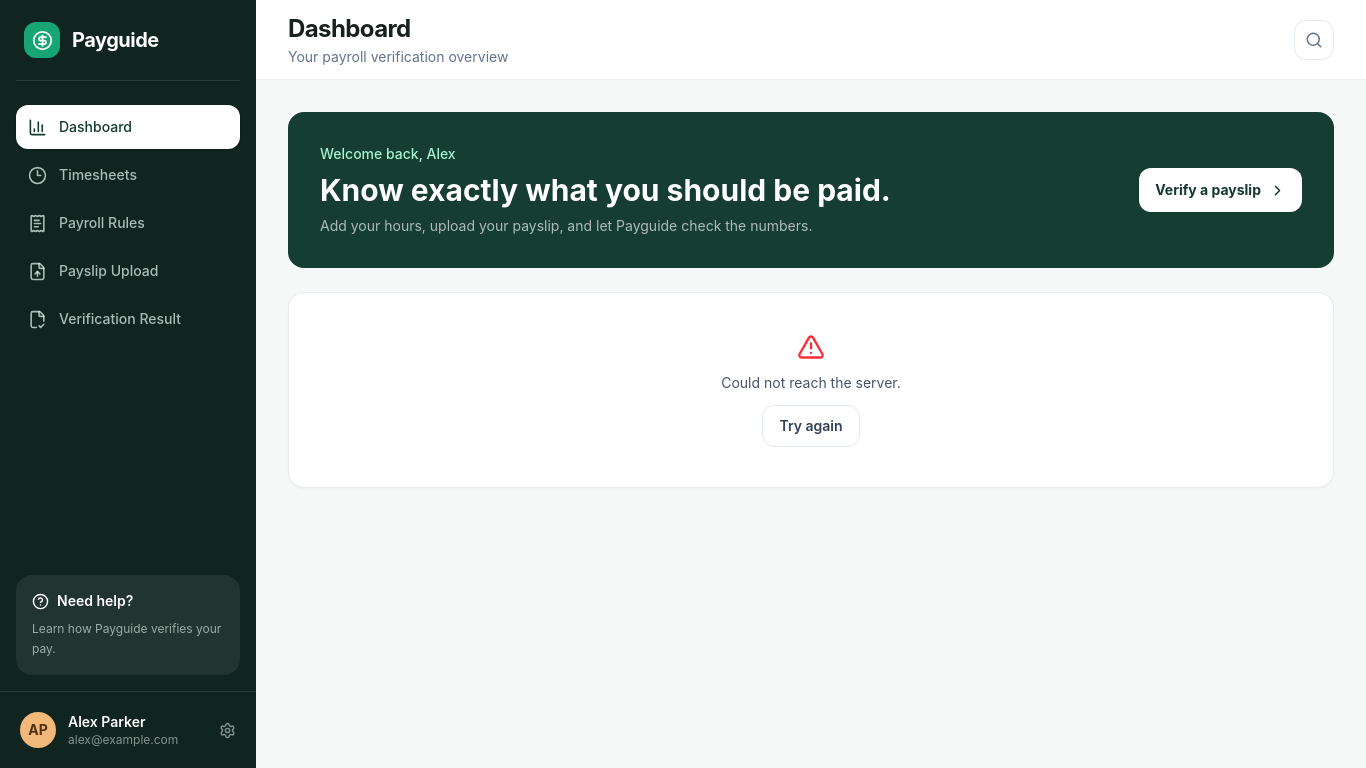
Test case: Dashboard › shows an error state with a working retry on API failure
The image size is (1366, 768).
expect the text "Could not reach the server." is shown: met, box x1=721 y1=373 x2=901 y2=393
Click the button "Try again": (811, 426) x1=762 y1=405 x2=860 y2=447
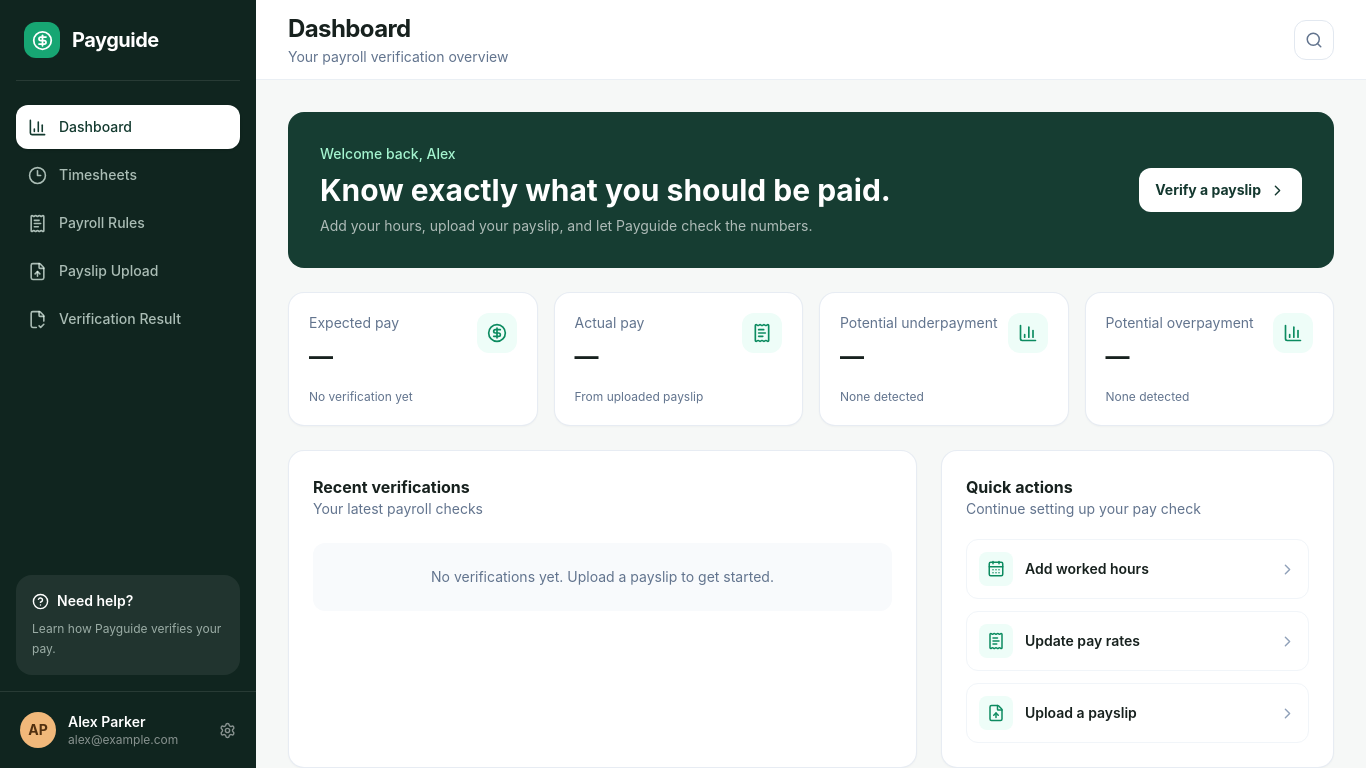
expect the text "No verifications yet. Upload a payslip to get started." is shown: met, box x1=313 y1=543 x2=892 y2=611
